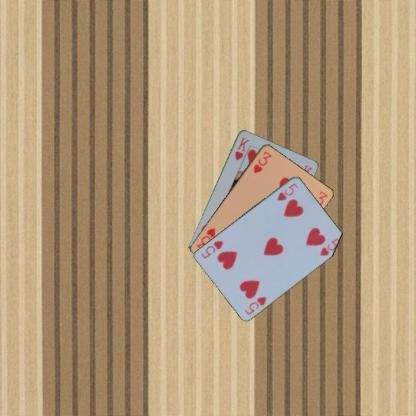3h: (250, 148, 272, 174)
5h: (274, 180, 300, 202), (242, 294, 268, 316)
Kh: (232, 134, 250, 161)
